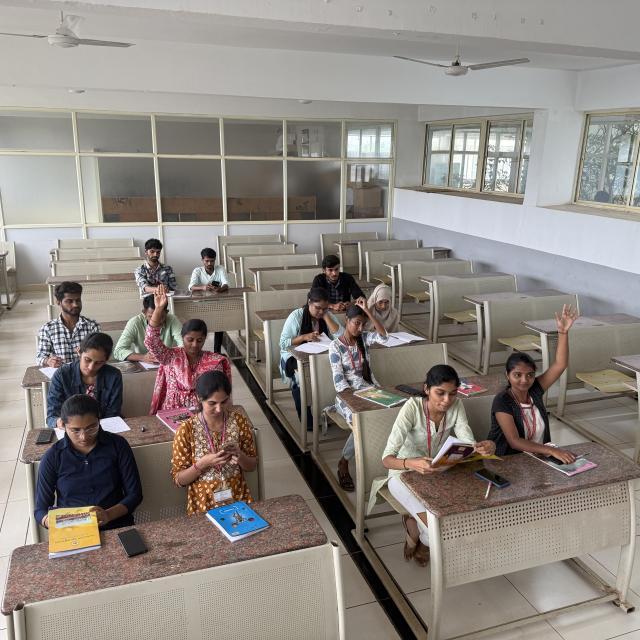Hand Rising: (482, 295, 586, 435), (140, 281, 232, 387)
Reading: (400, 384, 500, 464), (358, 274, 438, 346), (274, 285, 346, 353)
Using Phone: (155, 373, 274, 494), (192, 236, 233, 295)
Writing: (54, 329, 152, 440), (36, 263, 101, 379), (124, 226, 186, 302)
